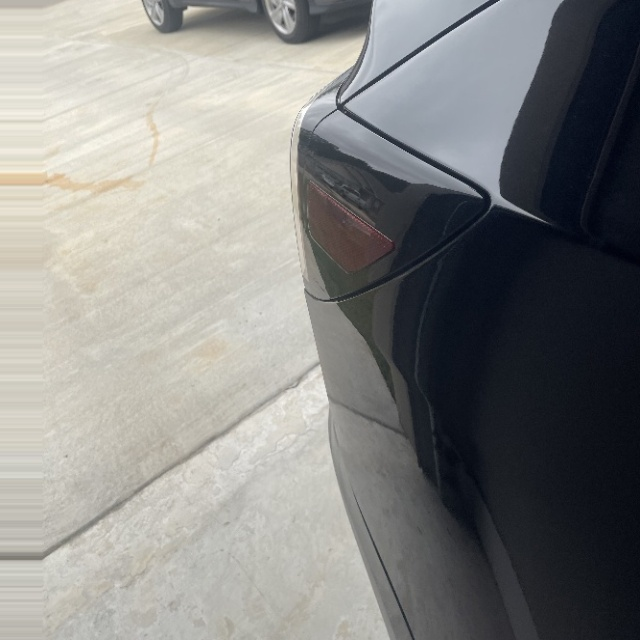reflector: (306, 180, 394, 273)
